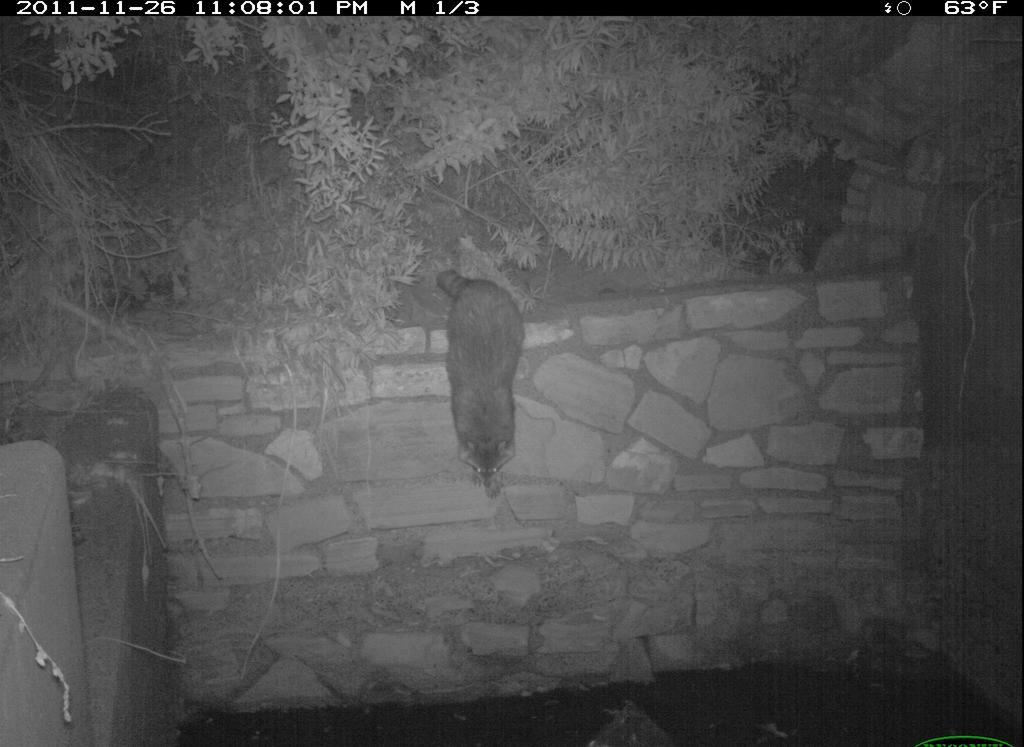raccoon: (424, 263, 542, 506)
